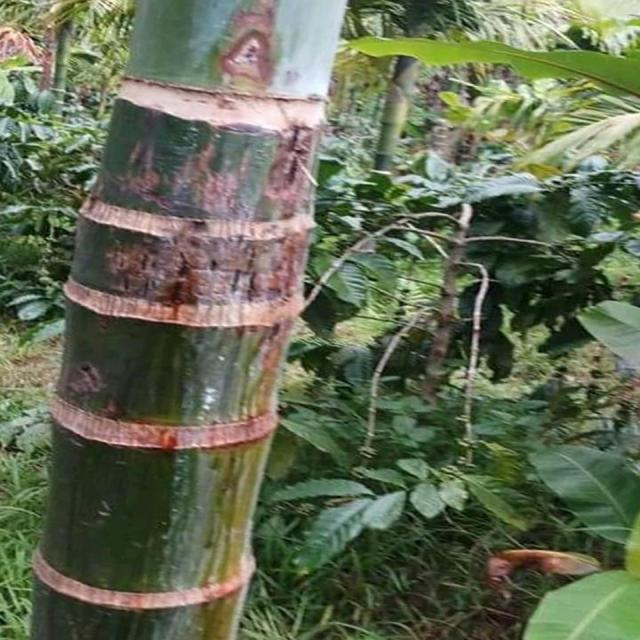Stem_Bleeding: (40, 89, 409, 392)
